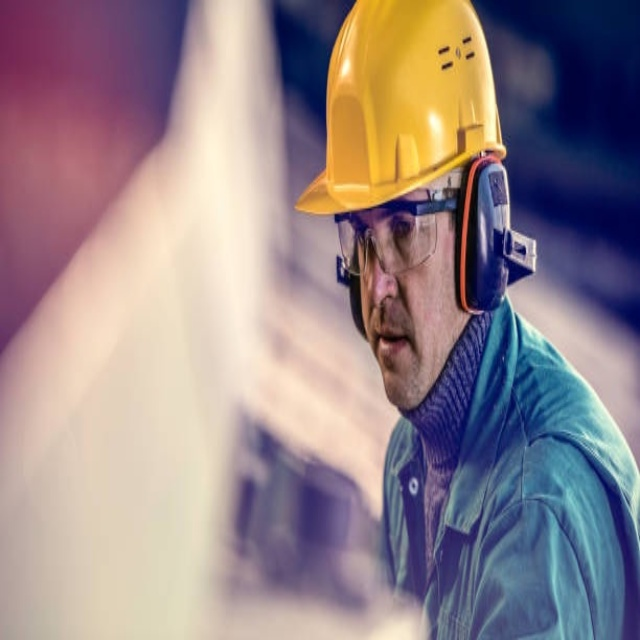Gafas: (333, 179, 458, 283)
Sin_mascara: (368, 311, 424, 380)
